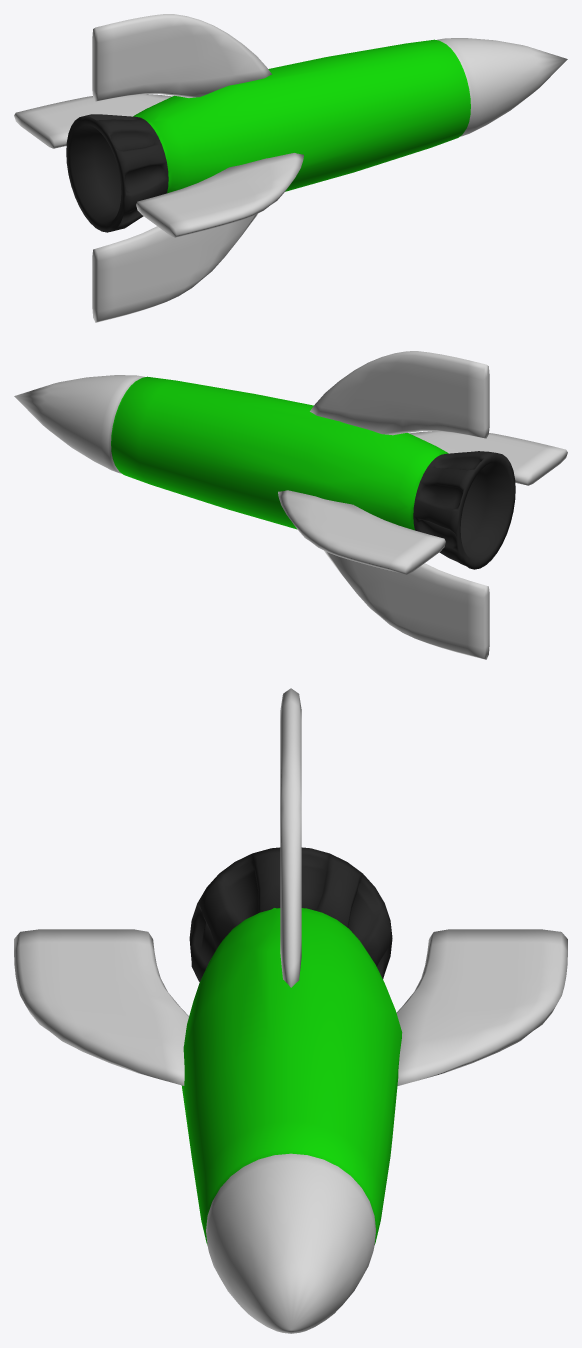
Rendered from Rocket_01.fbx.
3 views of the same model, one above another, from view 1: azimuth 30°, elevation 25°; view 2: azimuth 150°, elevation 25°; view 3: azimuth 270°, elevation 25° (orthographic). The views are drawn at different scales.
Visible parts, largest first — view 1: Cone; view 2: Cone; view 3: Cone.
Part boxes in pixels (x1,y1,x2,y2): Cone: [14, 14, 567, 322]; Cone: [14, 351, 567, 659]; Cone: [14, 688, 567, 1333].
Size of the model in its own units: 1.79 by 1.07 by 1.07.
